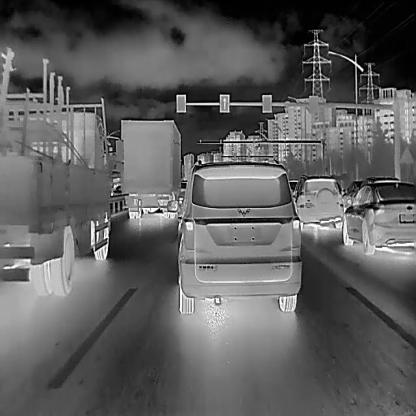car: (176, 158, 302, 314), (340, 179, 415, 254), (291, 174, 343, 229), (341, 178, 371, 213)
truck: (0, 90, 124, 296), (119, 117, 182, 219)
